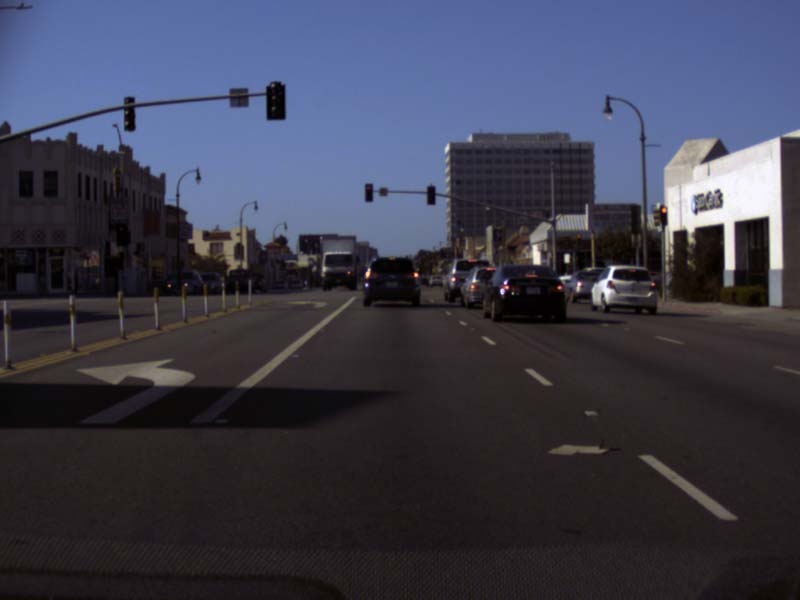Red: (117, 223, 126, 245), (365, 184, 371, 201), (661, 206, 666, 222), (576, 233, 580, 245)
